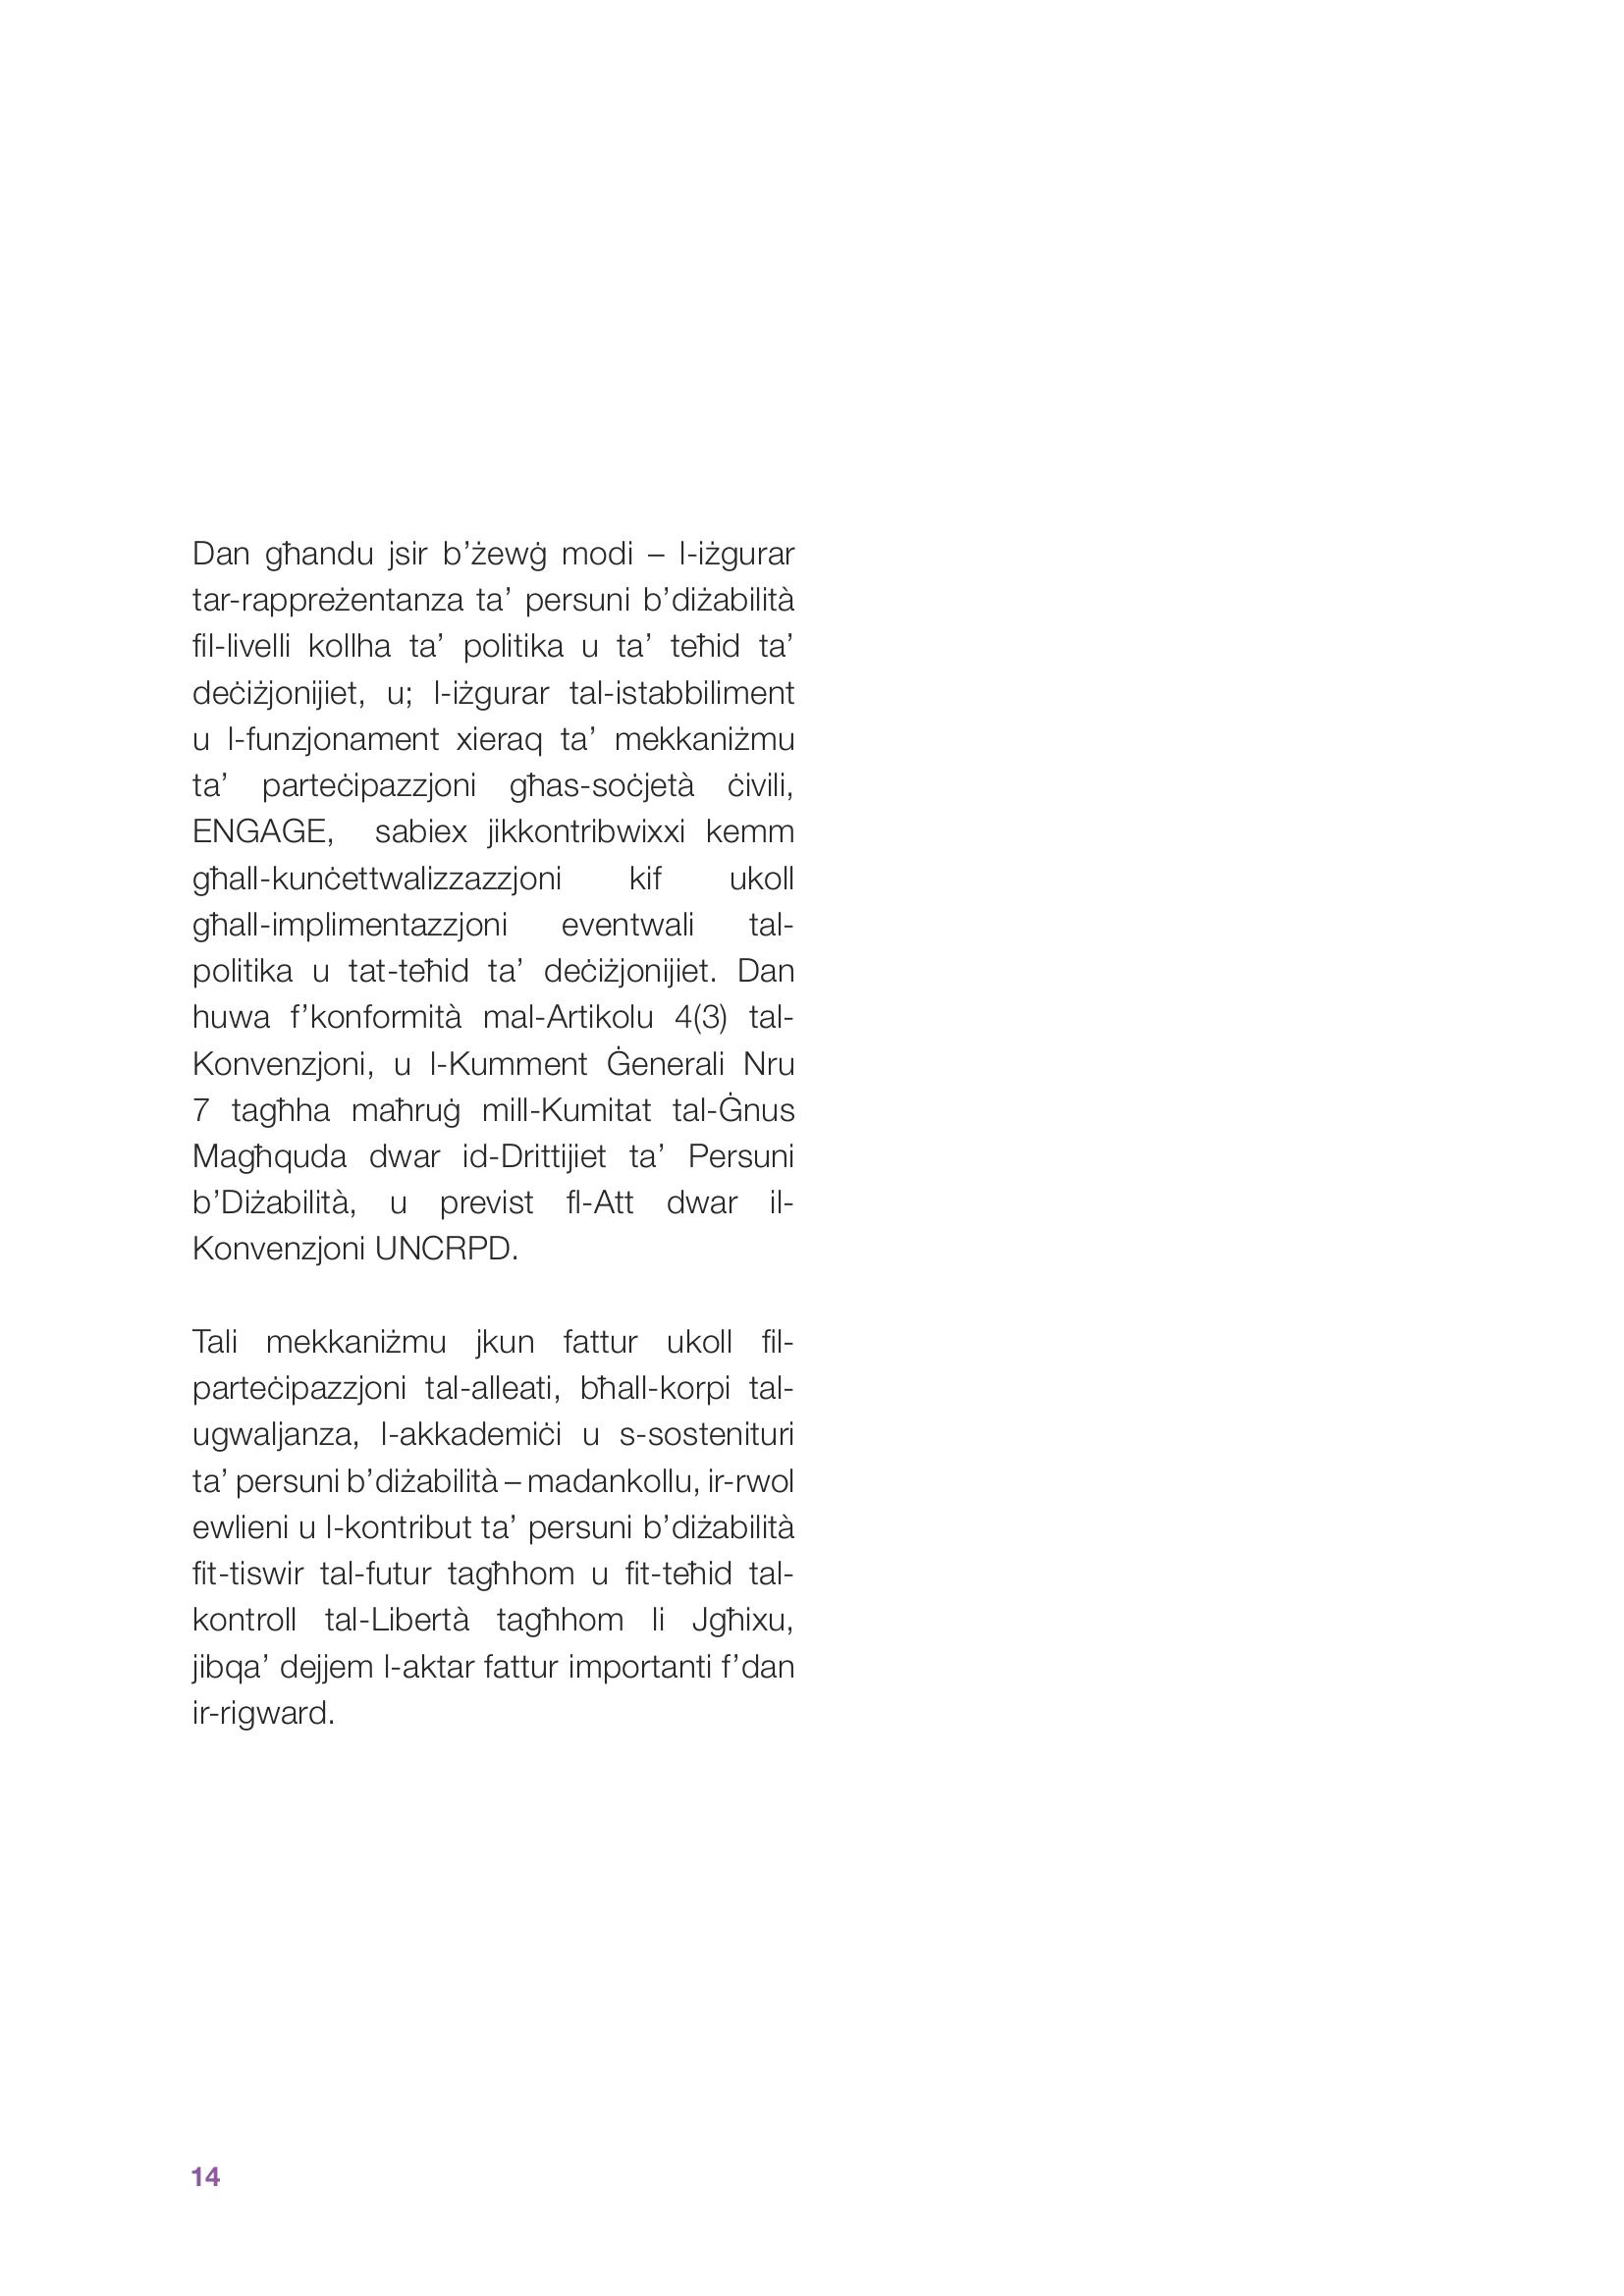text: (174, 515, 814, 1776)
